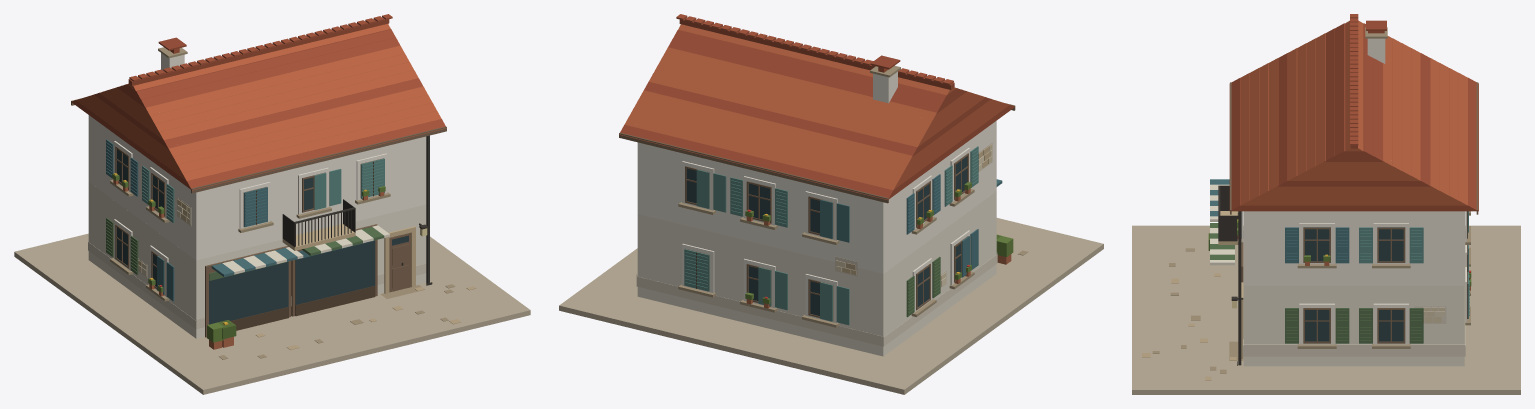
File: dukkanli-ev-iki-dukkan.glb
3 renders of one model, left to right at view 1: azimuth 30°, elevation 25°; view 2: azimuth 150°, elevation 25°; view 3: azimuth 270°, elevation 25°, orthographic. The views are drawn at different scales.
Parts seen in each view (by area): view 1: zemin, kiremit1, badana, kiremit4, cam, badana3, ahsap, kepenk, kepenk2, demir, tas2, ahsap_koyu (+6 smaller); view 2: kiremit1, zemin, badana, badana3, kiremit4, kepenk2, ahsap, badana_kir, cam, kepenk, tas_koyu, kiremit2 (+2 smaller); view 3: zemin, kiremit1, badana, kiremit4, badana3, cam, badana_kir, yesil_kepenk, ahsap, tas_koyu, demir, kepenk (+4 smaller).
Part boxes in pixels (x1,y1,x2,y2): zemin: (14,233,530,394); kiremit1: (76,24,441,180); badana: (88,53,426,297); kiremit4: (71,17,446,190); cam: (116,147,408,324); badana3: (88,182,426,338); ahsap: (71,98,446,337); kepenk: (106,139,374,301); kepenk2: (142,158,384,222); demir: (282,135,432,285); tas2: (138,199,415,293); ahsap_koyu: (231,161,411,330); kiremit1: (624,24,1009,190); zemin: (559,218,1103,394); badana: (637,71,996,323); badana3: (637,191,996,356); kiremit4: (619,18,1014,199); kepenk2: (684,146,978,325); ahsap: (619,103,1015,320); badana_kir: (636,142,997,346); cam: (686,156,967,315); kepenk: (820,174,1002,277); tas_koyu: (678,65,1027,327); kiremit2: (676,14,953,85); zemin: (1132,225,1520,394); kiremit1: (1240,20,1467,205); badana: (1241,38,1466,344); kiremit4: (1229,20,1478,211); badana3: (1243,285,1464,366); cam: (1241,211,1467,341); badana_kir: (1243,230,1465,356); yesil_kepenk: (1210,223,1423,343); ahsap: (1230,82,1478,343); tas_koyu: (1152,27,1470,373); demir: (1218,185,1243,365); kepenk: (1210,179,1349,263).
Bounding box in the file's own units: 14 × 9.93 × 14.
